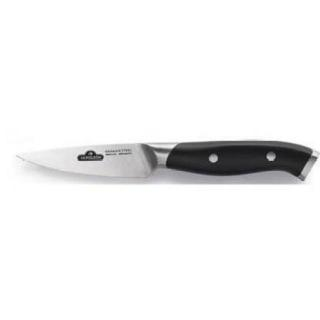knife: (10, 112, 162, 214)
